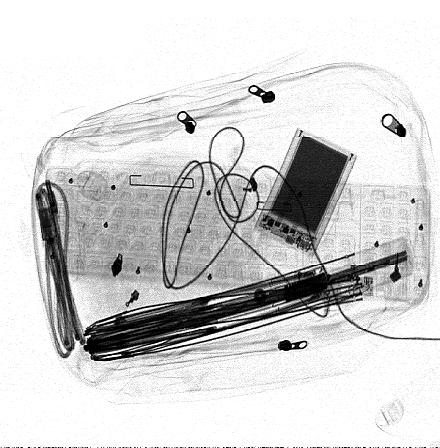Powerbank: (253, 127, 358, 261)
